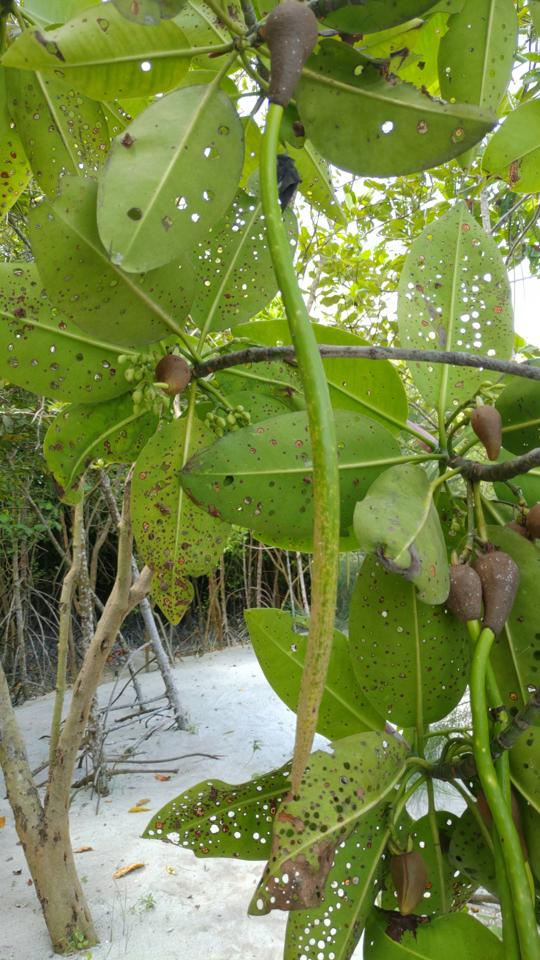mentah: (241, 1, 357, 830)
